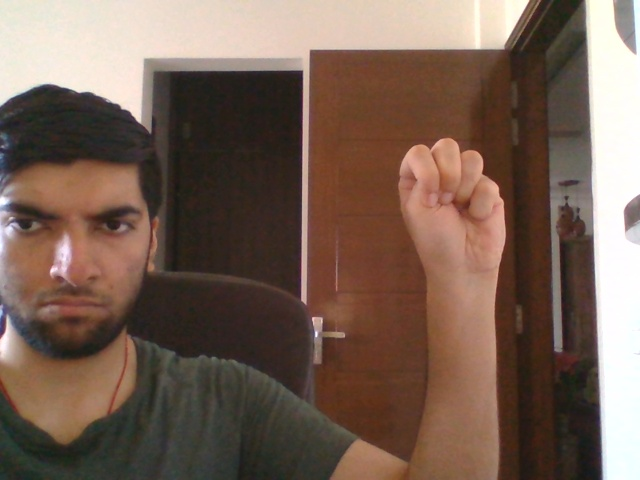LetterM: (397, 137, 506, 278)
